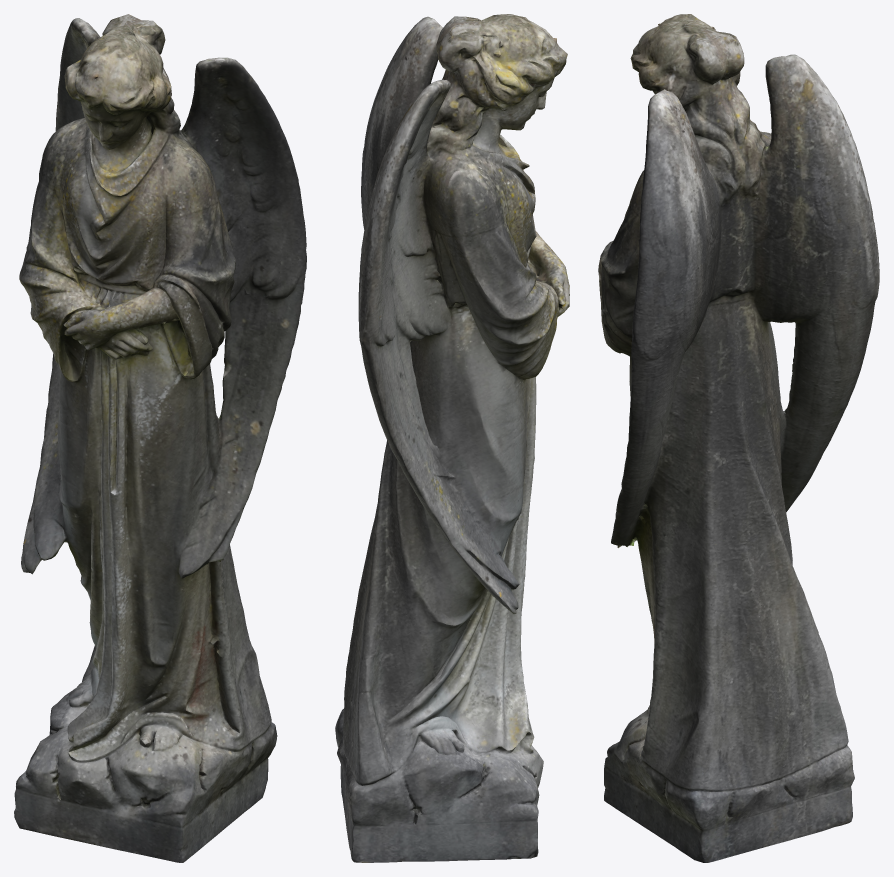
The model's file is graveyard_angel_statue.glb.
3 renders of one model, left to right at view 1: azimuth 30°, elevation 25°; view 2: azimuth 150°, elevation 25°; view 3: azimuth 270°, elevation 25°, orthographic. The views are drawn at different scales.
Parts seen in each view (by area): view 1: angel_26k; view 2: angel_26k; view 3: angel_26k.
Part boxes in pixels (<box>): angel_26k: <box>14,14,306,862</box>; angel_26k: <box>335,14,569,862</box>; angel_26k: <box>598,14,879,862</box>.
Size of the model in its own units: 0.4753 by 1.57 by 0.5201.
Materials: 1 (1 with a texture image).
